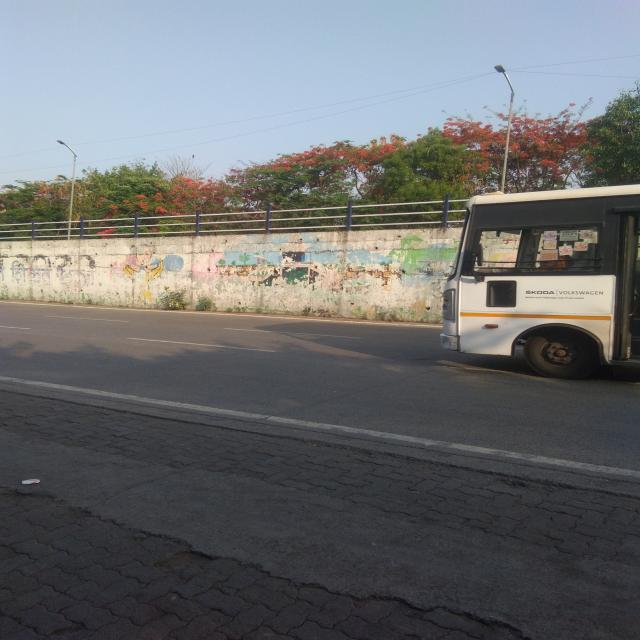Bus: (435, 175, 640, 382)
